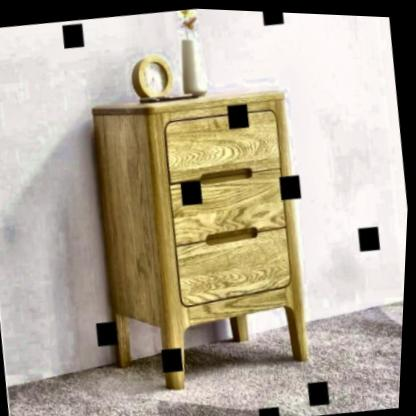Nightstand: (82, 75, 328, 387)
